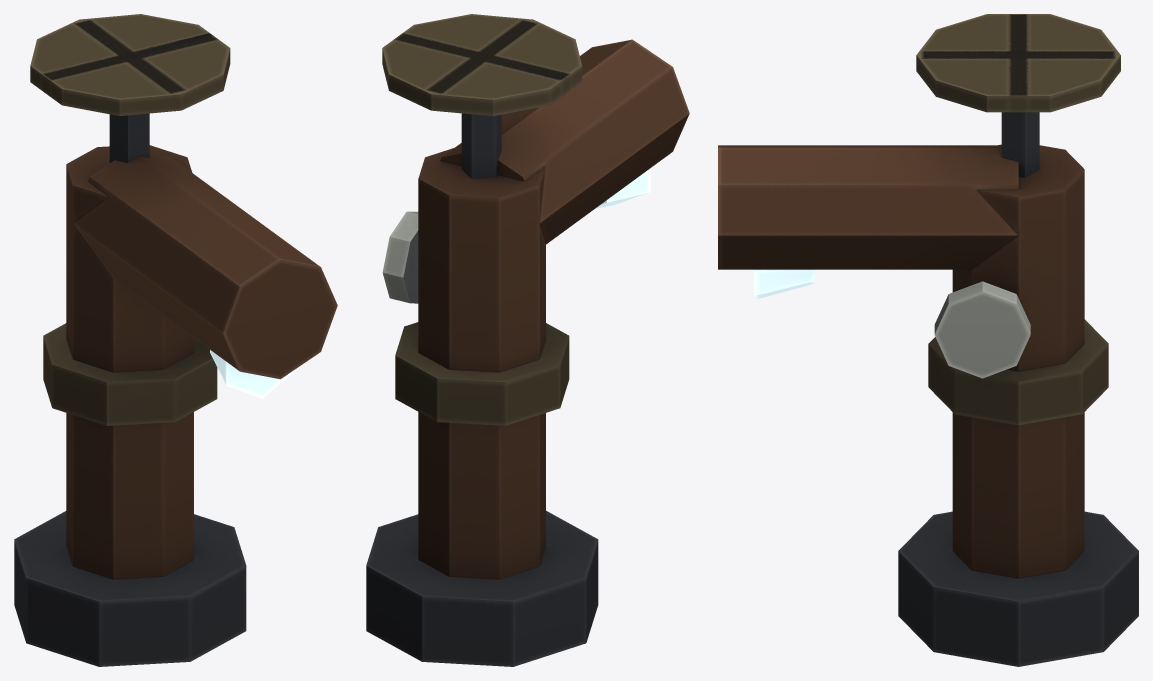
The model's file is obj_valve.glb.
3 renders of one model, left to right at view 1: azimuth 30°, elevation 25°; view 2: azimuth 150°, elevation 25°; view 3: azimuth 270°, elevation 25°, orthographic.
Visible parts, largest first — view 1: obj_valve; view 2: obj_valve; view 3: obj_valve.
Part boxes in pixels (left/top/right/bottom): obj_valve: left=14, top=14, right=337, bottom=666; obj_valve: left=366, top=14, right=689, bottom=666; obj_valve: left=718, top=14, right=1138, bottom=666.
Bounding box in the file's own units: 0.4 × 1.03 × 0.7.
Materials: 1 (1 with a texture image).
